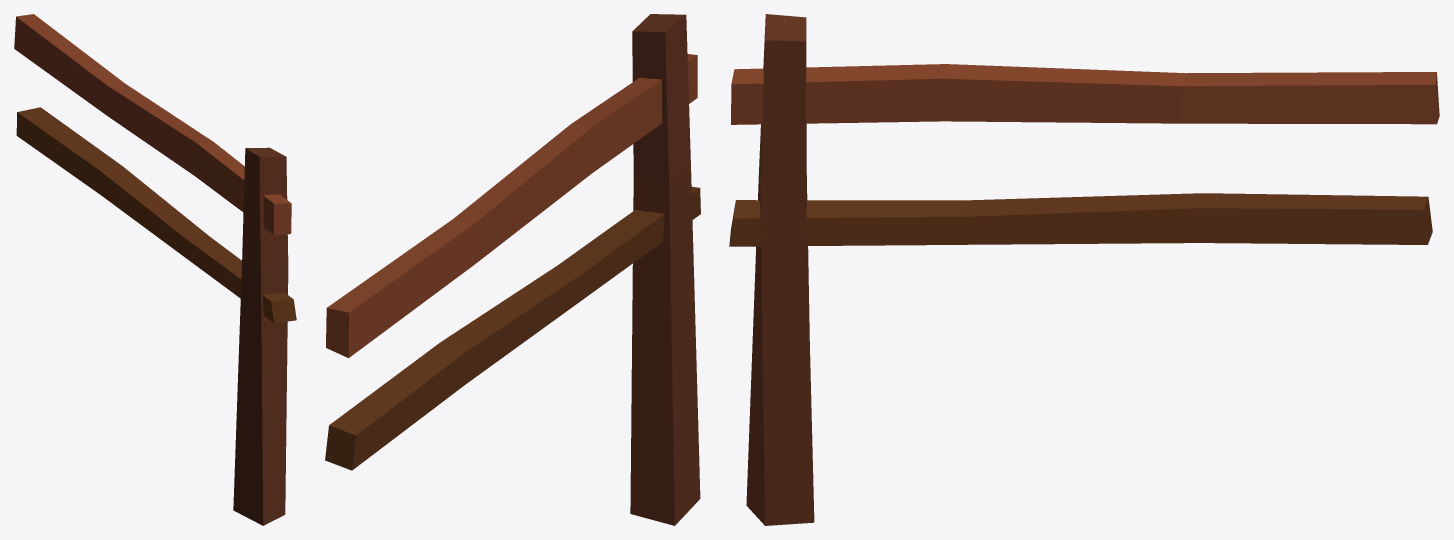
The model's file is FenceNoEnd.obj.
3 views of the same model, side by side, from view 1: azimuth 30°, elevation 25°; view 2: azimuth 150°, elevation 25°; view 3: azimuth 270°, elevation 25° (orthographic). The views are drawn at different scales.
Visible parts, largest first — view 1: Plane.004_Plane.005, Plane.007_Plane.008, Plane.006_Plane.007; view 2: Plane.004_Plane.005, Plane.007_Plane.008, Plane.006_Plane.007; view 3: Plane.007_Plane.008, Plane.006_Plane.007, Plane.004_Plane.005.
Boxes of the visible parts, <box> form: Plane.004_Plane.005: <box>233,147,288,525</box>; Plane.007_Plane.008: <box>14,14,291,235</box>; Plane.006_Plane.007: <box>16,107,296,323</box>; Plane.004_Plane.005: <box>630,14,700,525</box>; Plane.007_Plane.008: <box>326,54,697,358</box>; Plane.006_Plane.007: <box>325,186,700,470</box>; Plane.007_Plane.008: <box>731,64,1439,124</box>; Plane.006_Plane.007: <box>729,193,1432,246</box>; Plane.004_Plane.005: <box>746,14,814,525</box>.
Bounding box in the file's own units: 0.1949 × 1.89 × 2.46.
